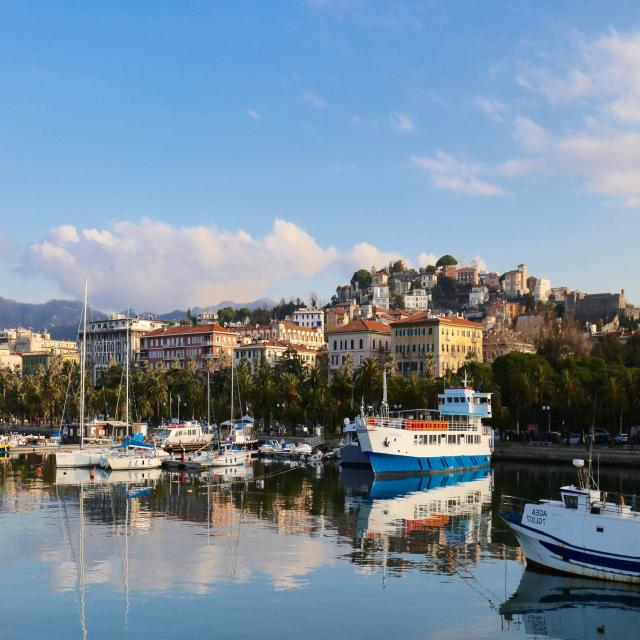cargoship: (342, 374, 498, 477)
houseboat: (108, 443, 158, 481), (164, 417, 214, 453)
